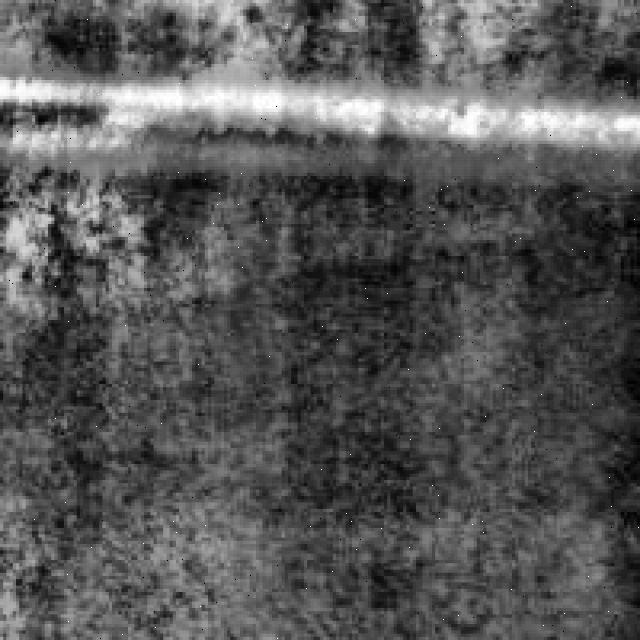Inclusion: (0, 67, 634, 157)
